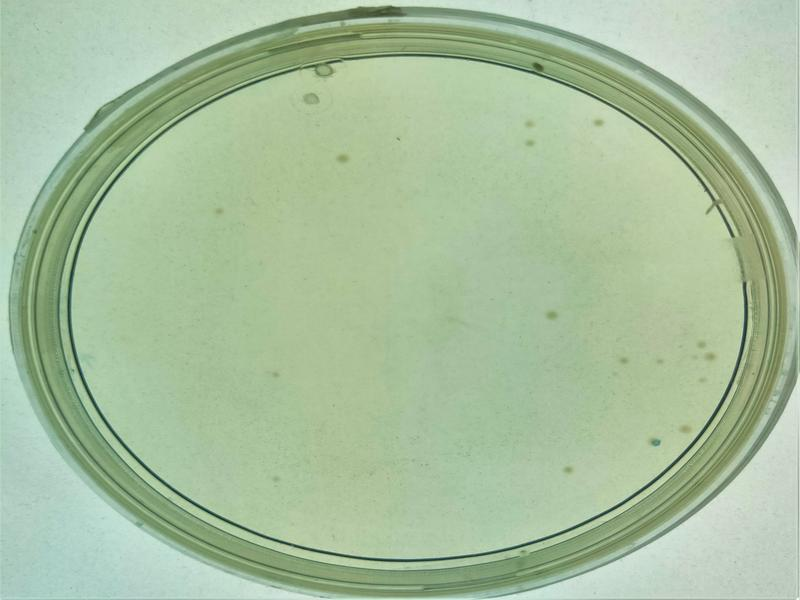colony: (524, 304, 568, 328), (552, 456, 584, 485), (261, 469, 294, 494), (330, 147, 360, 171), (515, 112, 544, 132), (589, 111, 608, 139), (212, 198, 231, 225), (520, 134, 543, 156)
